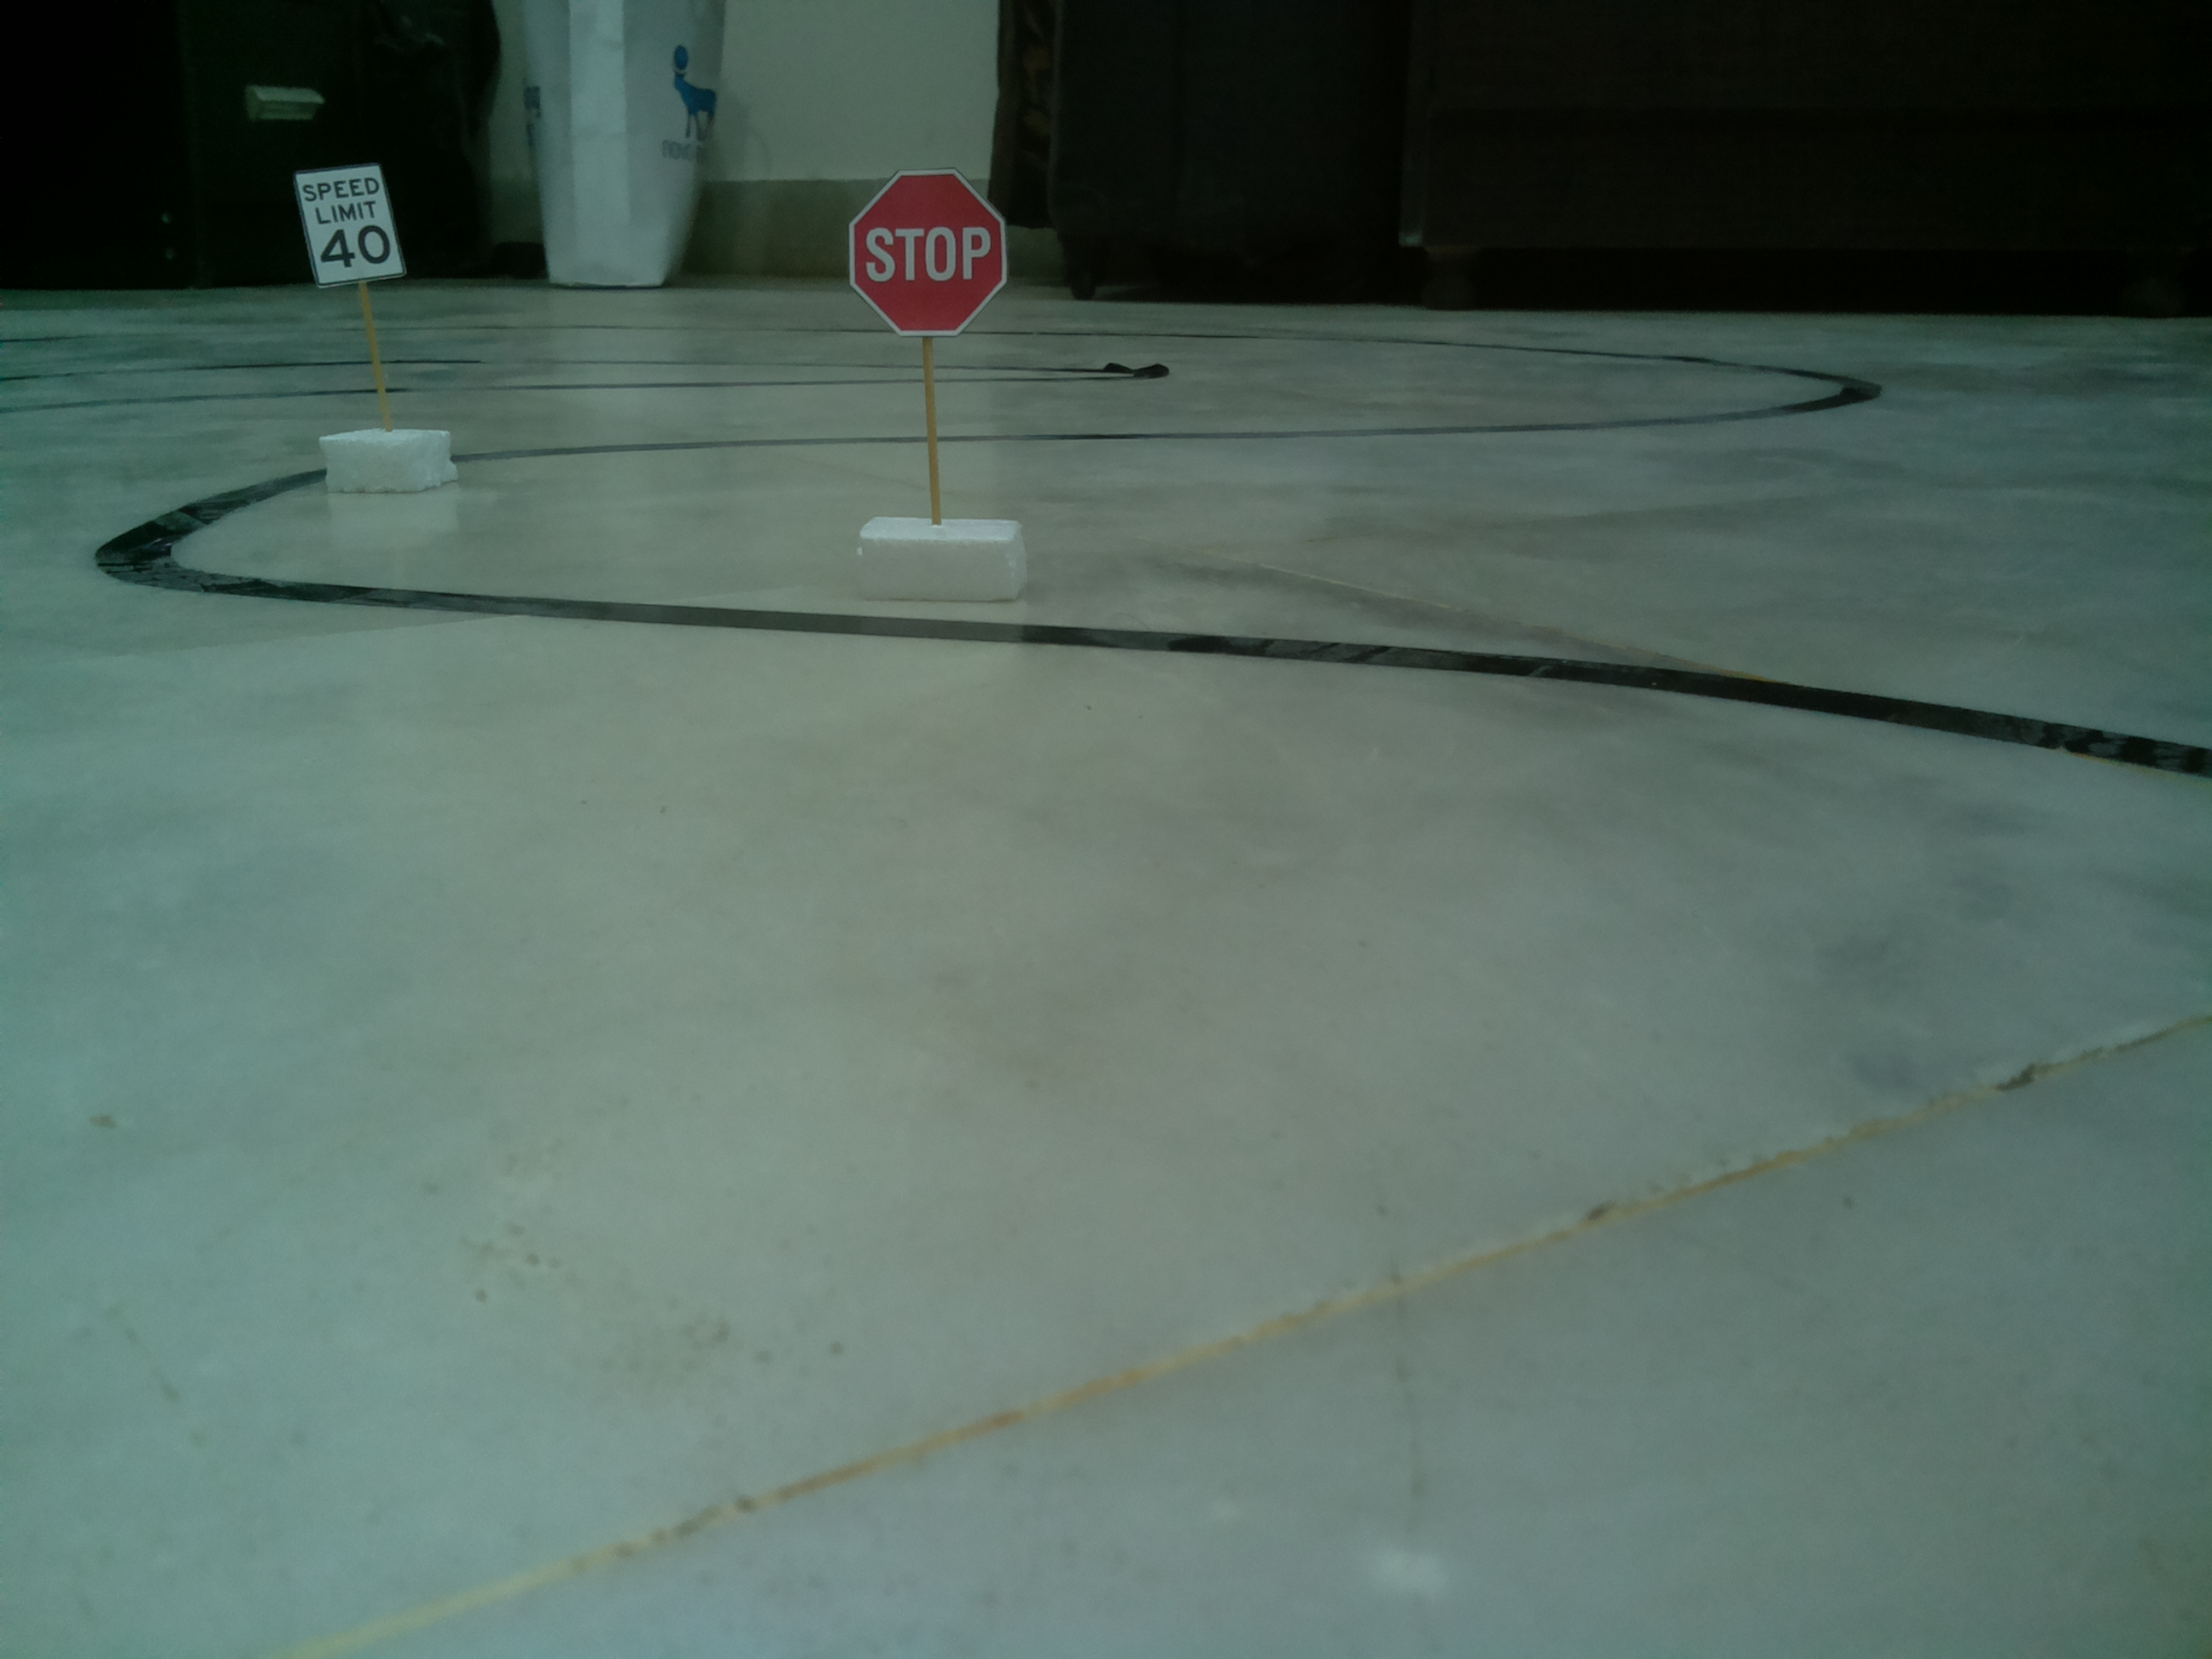Speed limit 40: (289, 160, 418, 295)
Stop sign: (833, 166, 1026, 336)
